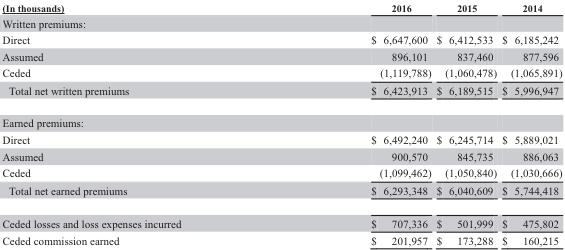table: (1, 0, 561, 247)
table column: (1, 0, 275, 247), (275, 0, 433, 247), (433, 0, 498, 247), (498, 0, 561, 247)
table column header: (1, 0, 561, 15)
table projected row header: (1, 106, 561, 130), (1, 15, 561, 31)
table row: (1, 81, 561, 106), (1, 181, 561, 206), (1, 206, 561, 231), (1, 106, 561, 130), (1, 47, 561, 64), (1, 64, 561, 81), (1, 130, 561, 147), (1, 147, 561, 164), (1, 164, 561, 181), (1, 15, 561, 31), (1, 31, 561, 47), (1, 231, 561, 247), (1, 0, 561, 15)
